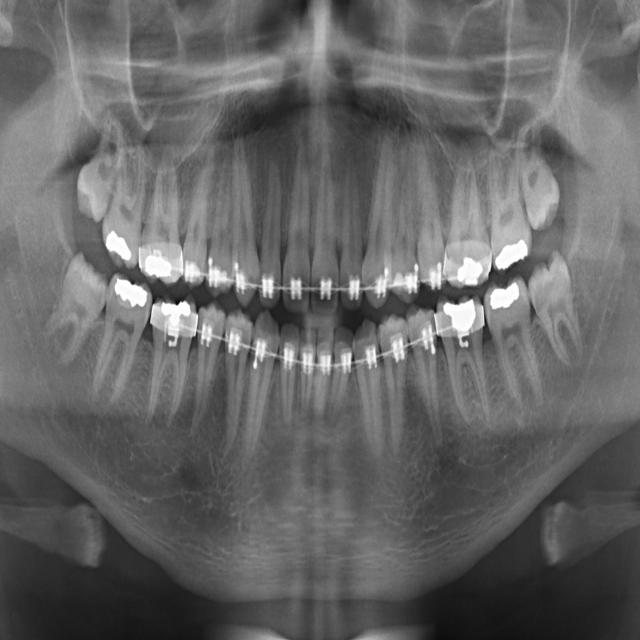AmalgamRestoration: (46, 241, 108, 369), (438, 300, 481, 345), (455, 246, 489, 288), (158, 295, 194, 334), (101, 228, 135, 268), (494, 237, 528, 274), (488, 282, 525, 314), (144, 254, 175, 285)
